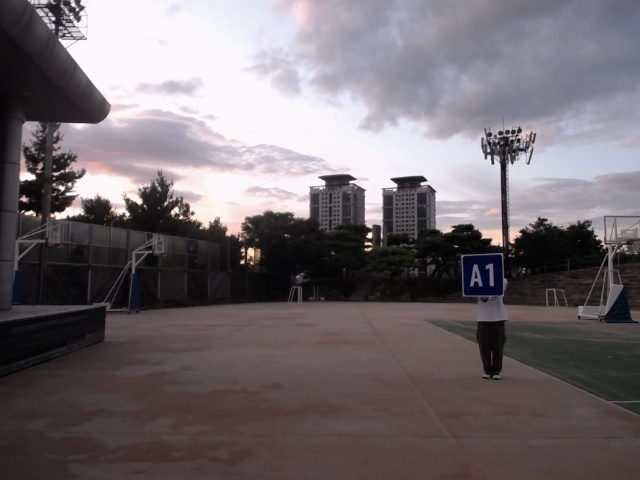delivery_a1: (462, 254, 504, 295)
